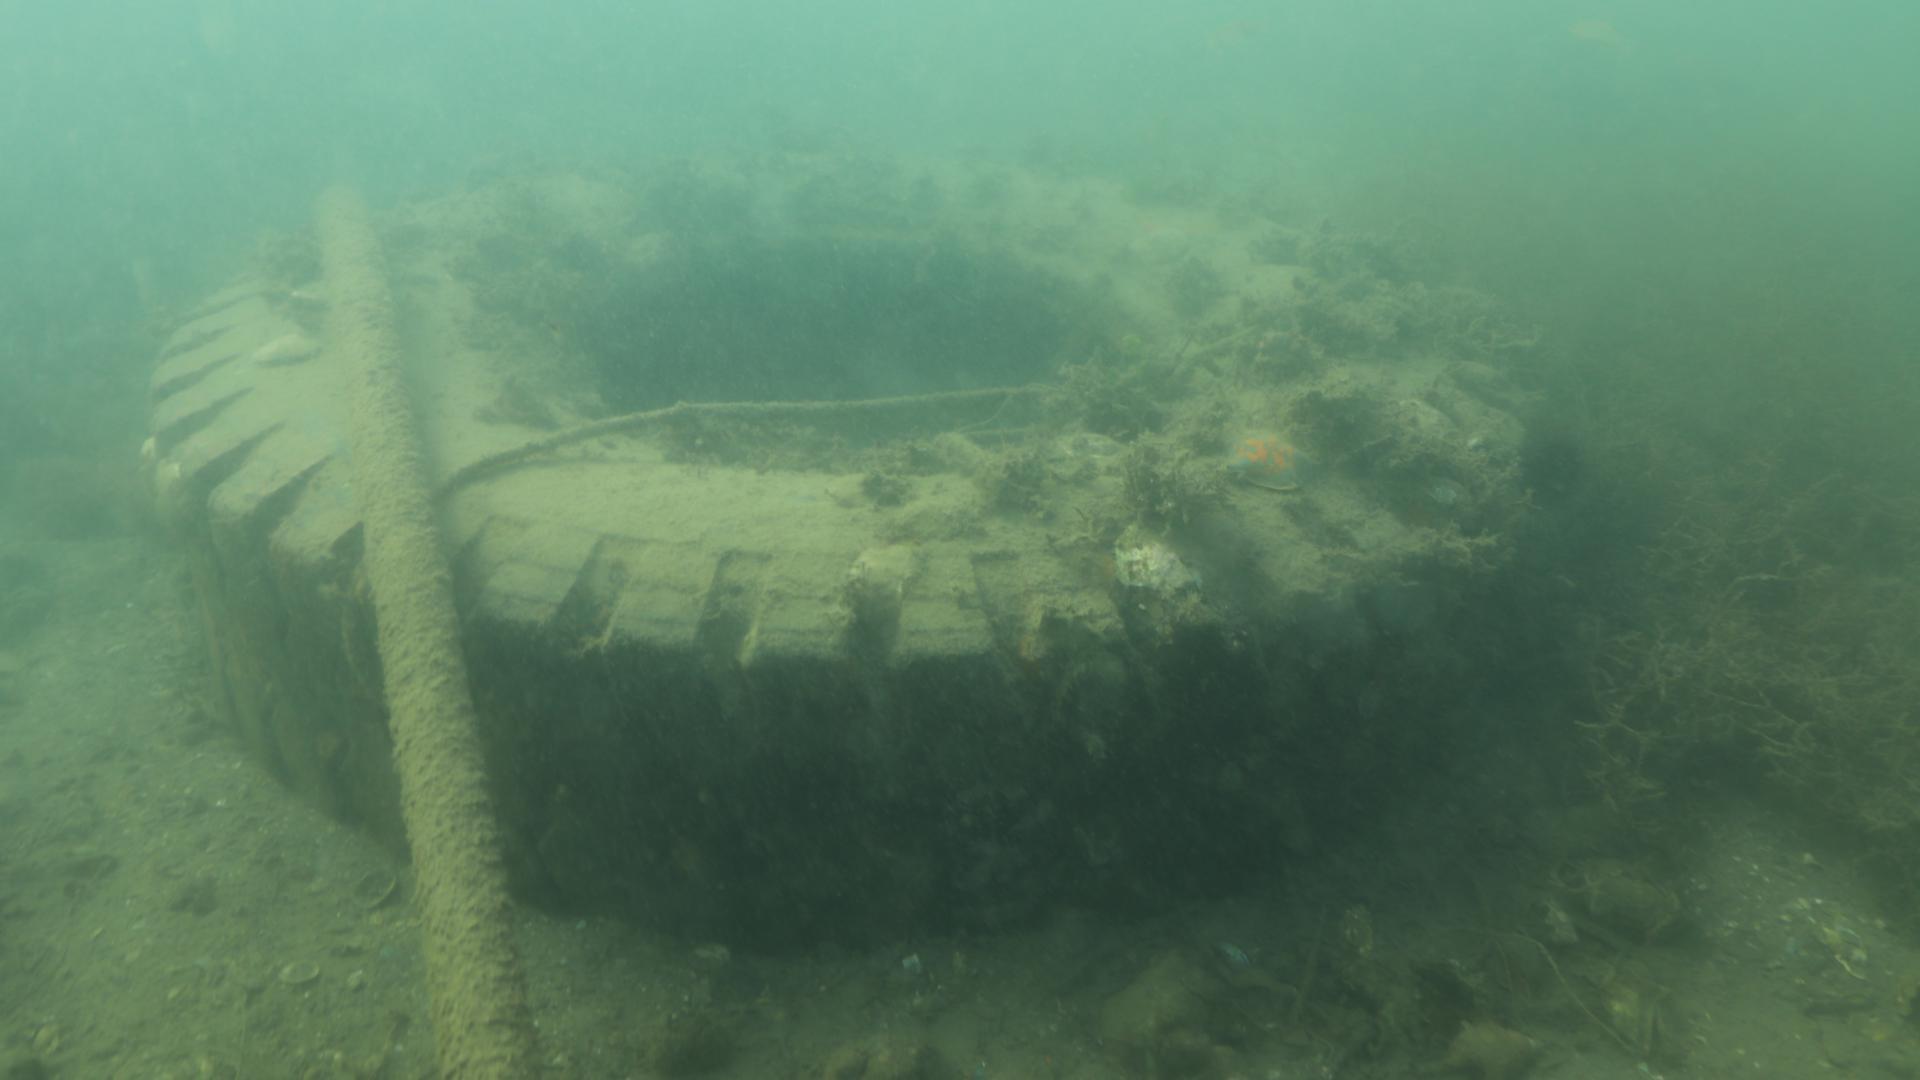rope: (315, 181, 545, 1080), (450, 378, 1124, 498)
tire: (150, 146, 1528, 951)
